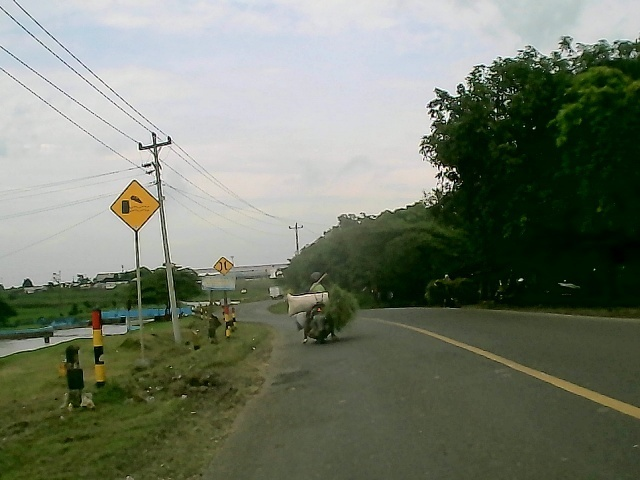Jembatan: (211, 256, 235, 279)
Peringatan tepi air: (107, 176, 164, 234)
